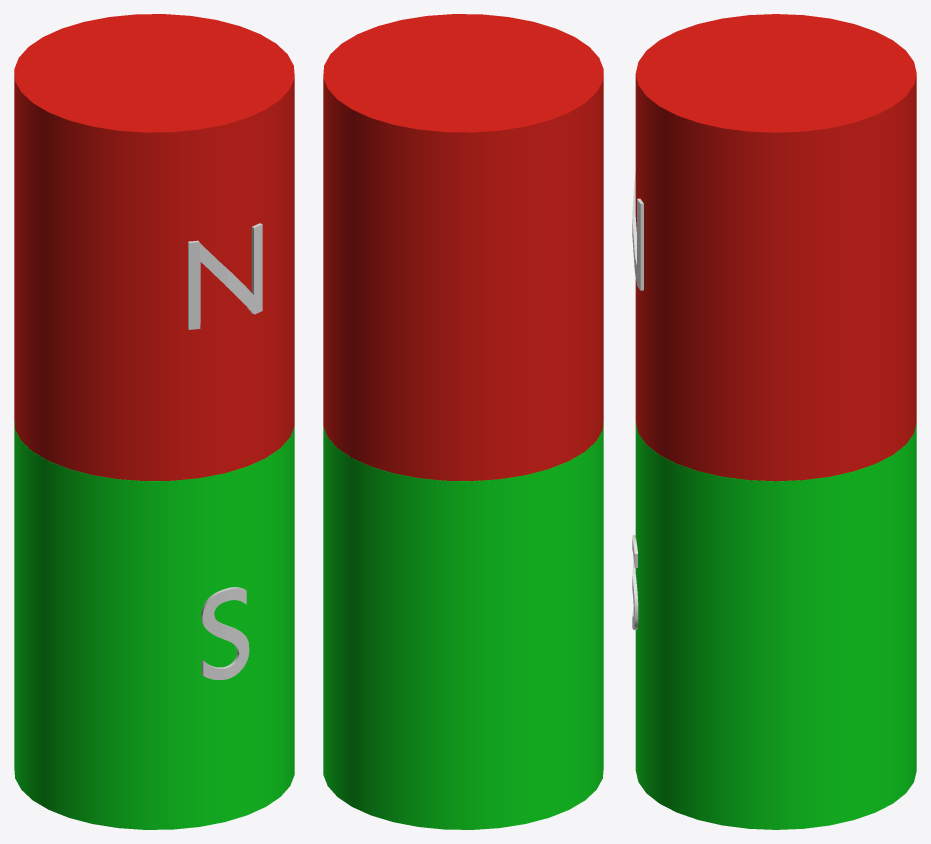
The model's file is magnet.fbx.
3 views of the same model, side by side, from view 1: azimuth 30°, elevation 25°; view 2: azimuth 150°, elevation 25°; view 3: azimuth 270°, elevation 25° (orthographic).
Parts seen in each view (by area): view 1: CylinderN, CylinderS, N, S; view 2: CylinderN, CylinderS; view 3: CylinderN, CylinderS, N.
Boxes of the visible parts, x1,y1,x2,y2 form: CylinderN: (14, 14, 294, 481); CylinderS: (14, 421, 294, 829); N: (188, 223, 262, 329); S: (201, 587, 249, 679); CylinderN: (323, 14, 603, 481); CylinderS: (323, 421, 603, 829); CylinderN: (635, 14, 916, 481); CylinderS: (635, 422, 916, 829); N: (632, 172, 643, 290).
Bounding box in the file's own units: 200 × 547 × 202.
